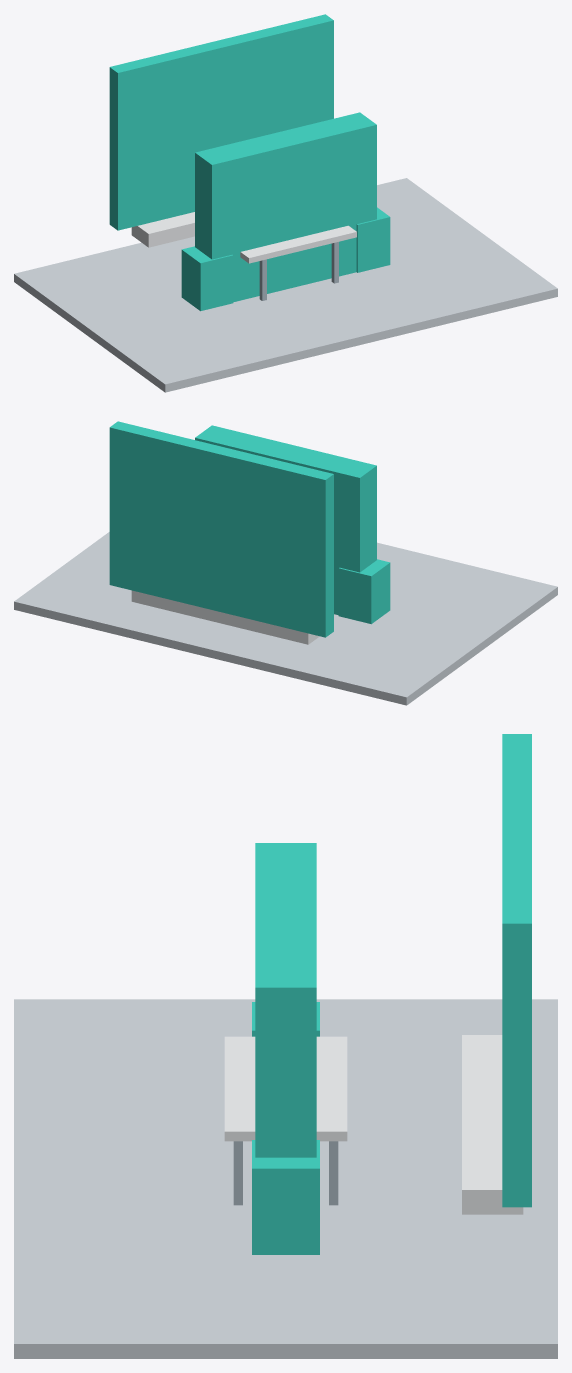
3 views of the same model, one above another, from view 1: azimuth 30°, elevation 25°; view 2: azimuth 150°, elevation 25°; view 3: azimuth 270°, elevation 25° (orthographic). The views are drawn at different scales.
Parts seen in each view (by area): view 1: Exhibition Booth Concept; view 2: Exhibition Booth Concept; view 3: Exhibition Booth Concept.
Part boxes in pixels (x1,y1,x2,y2): Exhibition Booth Concept: (14, 14, 557, 392); Exhibition Booth Concept: (14, 421, 557, 705); Exhibition Booth Concept: (14, 734, 557, 1358).
Size of the model in its own units: 6 by 2.9 by 4.
